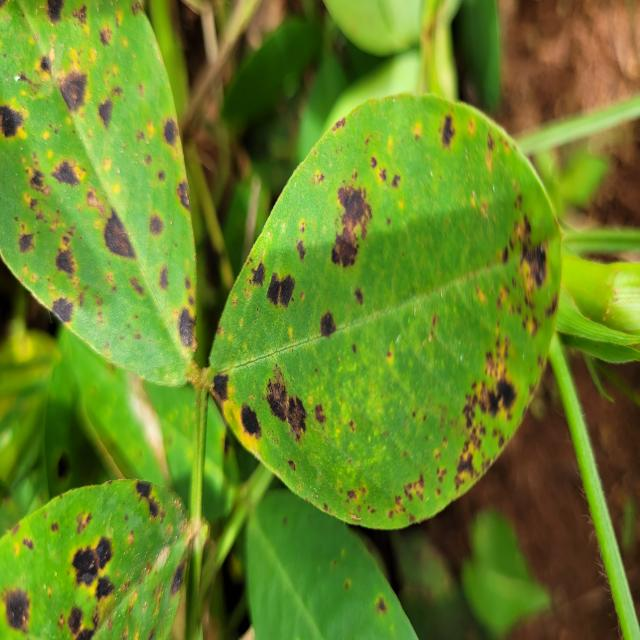Ground nut_tikka leaf spot: (202, 88, 562, 532)
